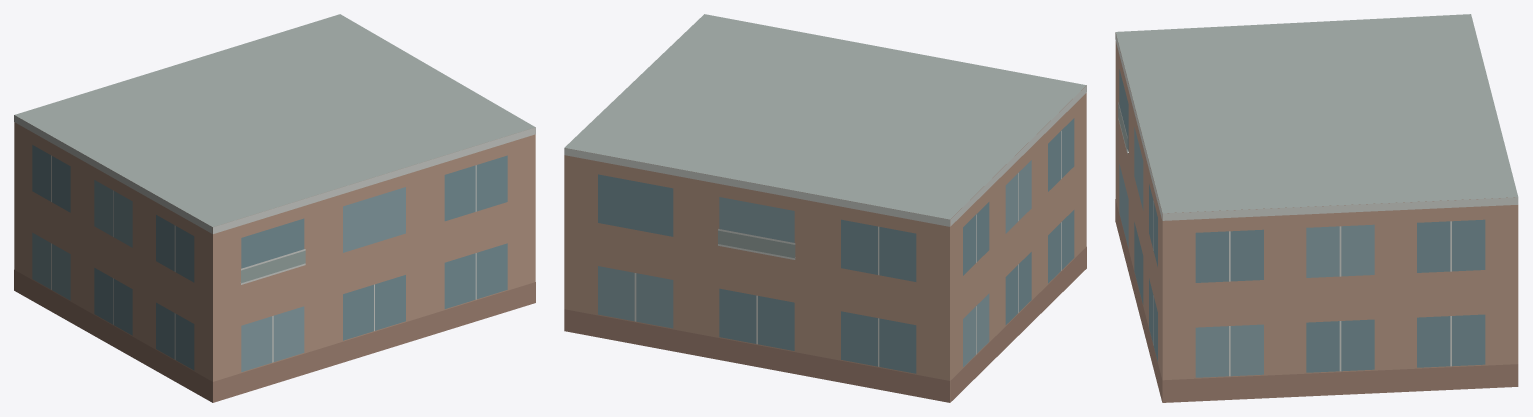
The model's file is survey-upis-32803340.glb.
The picture shows the model from 3 angles, left to right: view 1: azimuth 30°, elevation 25°; view 2: azimuth 150°, elevation 25°; view 3: azimuth 270°, elevation 25°; orthographic projection. The views are drawn at different scales.
Parts seen in each view (by area): view 1: survey-upis-32803340.tmp; view 2: survey-upis-32803340.tmp; view 3: survey-upis-32803340.tmp.
Boxes of the visible parts, <box> form: survey-upis-32803340.tmp: <box>14,14,535,402</box>; survey-upis-32803340.tmp: <box>564,14,1086,402</box>; survey-upis-32803340.tmp: <box>1115,14,1518,402</box>.
Bounding box in the file's own units: 13.77 × 6.1 × 11.76.
